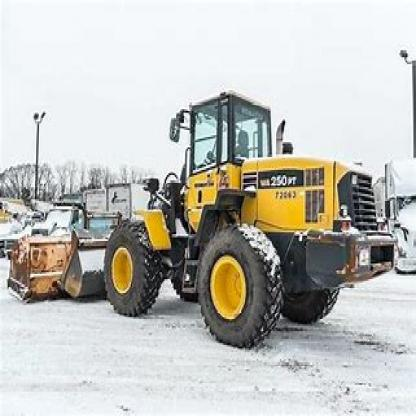bull_dozer/loader/grader: (63, 85, 398, 357)
